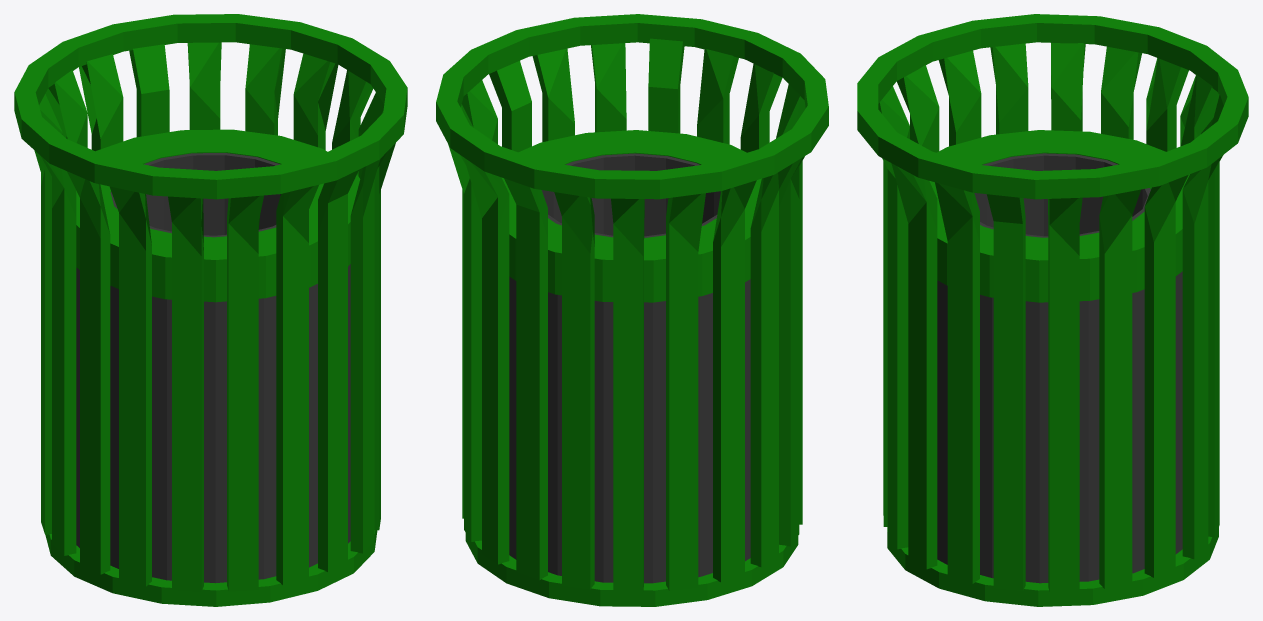
File: trashbin.fbx
3 views of the same model, side by side, from view 1: azimuth 30°, elevation 25°; view 2: azimuth 150°, elevation 25°; view 3: azimuth 270°, elevation 25° (orthographic).
Visible parts, largest first — view 1: Cylinder, Cylinder.002, Cube.003, Cube.007, Cube.008, Cube.009, Cube.013, Cylinder.003, Cube.006, Cube.001, Cube.004, Cylinder.001 (+10 smaller); view 2: Cylinder, Cylinder.002, Cube.015, Cube.016, Cube.002, Cube.014, Cube.005, Cylinder.003, Cube.017, Cube.001, Cube.013, Cube.018 (+11 smaller); view 3: Cylinder, Cylinder.002, Cube.012, Cube.010, Cube.011, Cube, Cube.018, Cube.004, Cylinder.003, Cube.017, Cube.006, Cylinder.001 (+10 smaller).
Part boxes in pixels (x1,y1,x2,y2): Cylinder: [76, 153, 350, 583]; Cylinder.002: [14, 14, 407, 199]; Cube.003: [276, 185, 318, 585]; Cube.007: [109, 186, 151, 586]; Cube.008: [227, 195, 263, 591]; Cube.009: [168, 196, 203, 592]; Cube.013: [67, 171, 110, 574]; Cylinder.003: [76, 129, 360, 302]; Cube.006: [318, 170, 358, 571]; Cube.001: [41, 156, 76, 555]; Cube.004: [350, 151, 387, 553]; Cylinder.001: [45, 530, 377, 606]; Cylinder: [509, 153, 750, 583]; Cylinder.002: [436, 14, 828, 199]; Cube.015: [666, 193, 705, 590]; Cube.016: [554, 192, 594, 589]; Cube.002: [504, 178, 547, 580]; Cube.014: [713, 180, 756, 582]; Cube.005: [611, 198, 644, 591]; Cylinder.003: [501, 130, 761, 302]; Cube.017: [464, 157, 509, 564]; Cube.001: [750, 163, 792, 567]; Cube.013: [779, 156, 804, 546]; Cube.018: [448, 144, 481, 541]; Cylinder: [937, 153, 1182, 583]; Cylinder.002: [857, 14, 1248, 199]; Cube.012: [1099, 189, 1140, 588]; Cube.010: [935, 182, 979, 583]; Cube.011: [987, 194, 1025, 591]; Cube: [1048, 197, 1082, 592]; Cube.018: [1144, 175, 1188, 577]; Cube.004: [891, 163, 937, 569]; Cylinder.003: [929, 130, 1189, 302]; Cube.017: [1182, 156, 1221, 559]; Cube.006: [882, 158, 908, 549]; Cylinder.001: [887, 527, 1218, 606].
Size of the model in its own units: 65.64 by 81.06 by 65.41.
